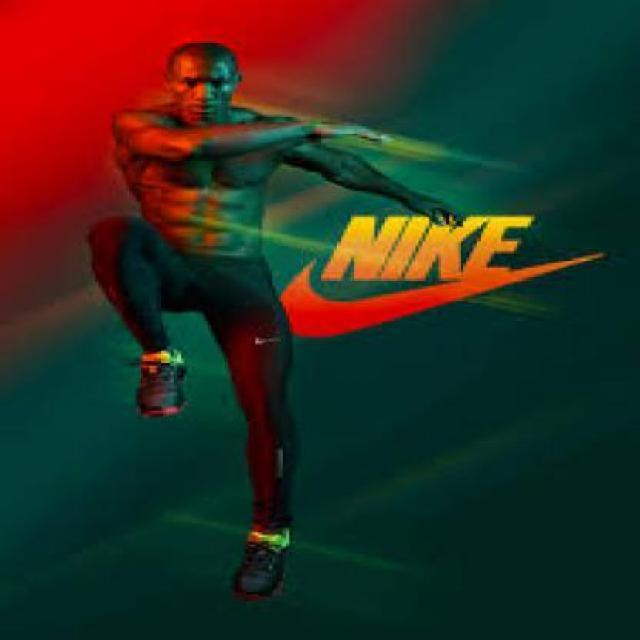Nike: (265, 210, 610, 339)
